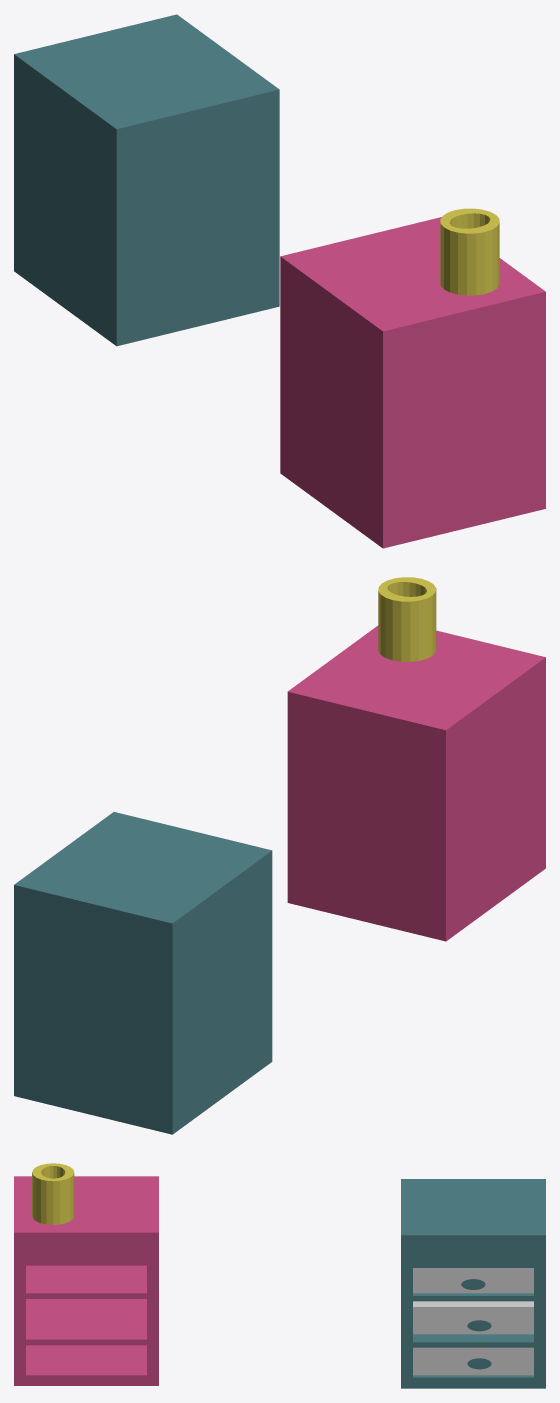
File: SideTable (1).glb
3 views of the same model, one above another, from view 1: azimuth 30°, elevation 25°; view 2: azimuth 150°, elevation 25°; view 3: azimuth 270°, elevation 25° (orthographic). The views are drawn at different scales.
Visible parts, largest first — view 1: Mesh_Mesh_head_geo.001_lambert2SG.001; view 2: Mesh_Mesh_head_geo.001_lambert2SG.001; view 3: Mesh_Mesh_head_geo.001_lambert2SG.001.
Boxes of the visible parts, box(x1,y1,x2,y2) form: Mesh_Mesh_head_geo.001_lambert2SG.001: box(14, 14, 545, 548); Mesh_Mesh_head_geo.001_lambert2SG.001: box(14, 577, 545, 1134); Mesh_Mesh_head_geo.001_lambert2SG.001: box(14, 1163, 545, 1388).
Size of the model in its own units: 24 by 36 by 88.
